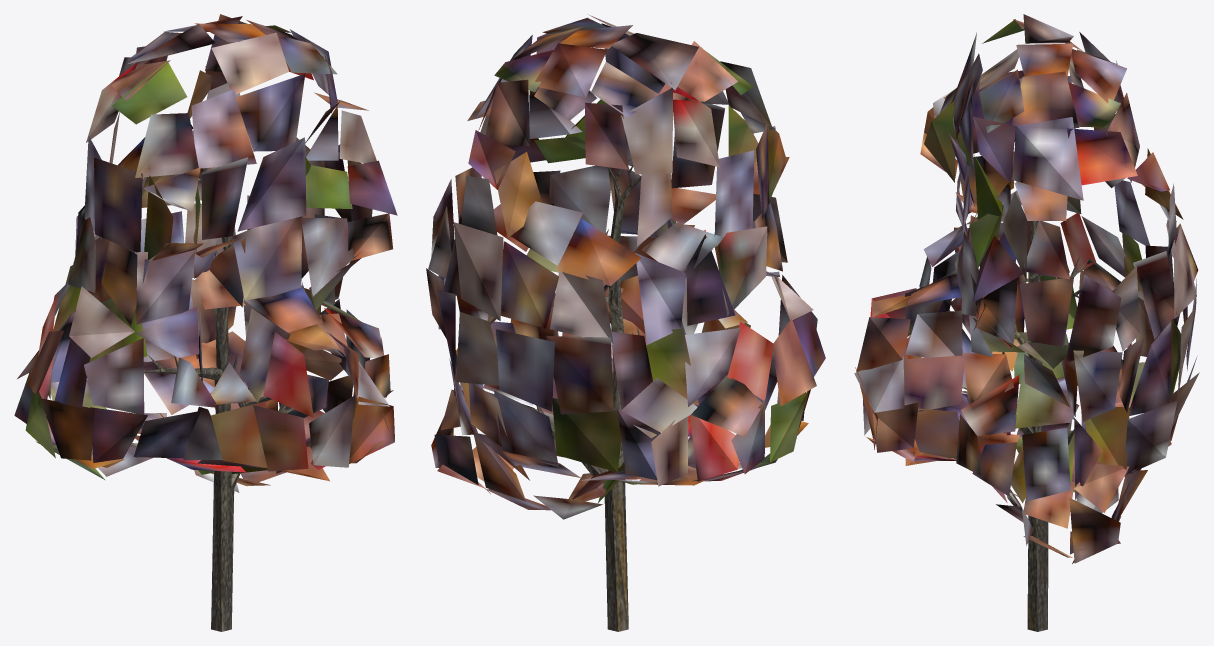
File: Tree01.fbx
3 views of the same model, side by side, from view 1: azimuth 30°, elevation 25°; view 2: azimuth 150°, elevation 25°; view 3: azimuth 270°, elevation 25° (orthographic). The views are drawn at different scales.
Parts seen in each view (by area): view 1: Tree01; view 2: Tree01; view 3: Tree01.
Boxes of the visible parts, x1,y1,x2,y2 form: Tree01: (14, 14, 397, 631); Tree01: (426, 14, 825, 631); Tree01: (854, 14, 1199, 631).
Size of the model in its own units: 1327 by 2186 by 1180.
